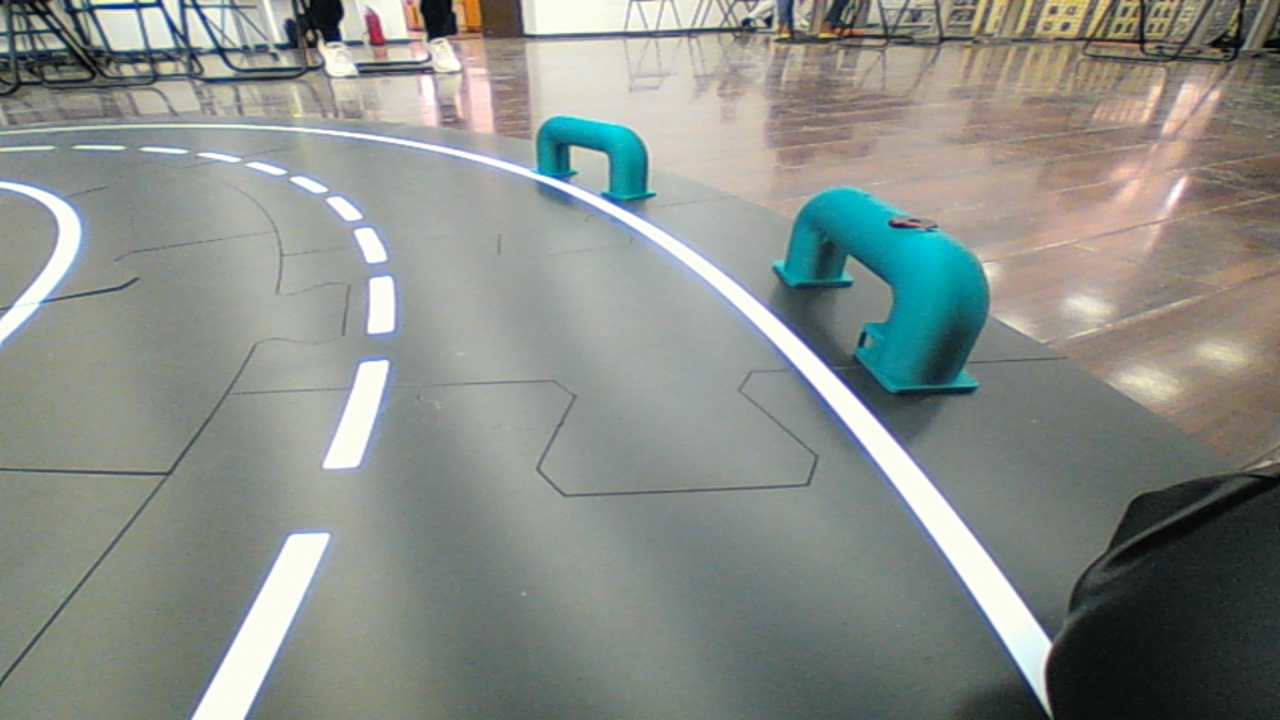No entry: (522, 97, 670, 220)
Pedestrian crossing: (750, 184, 1000, 397)
